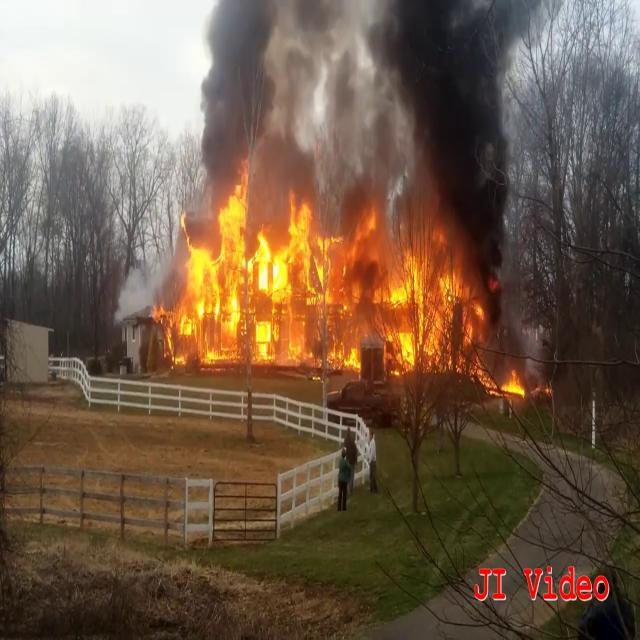Fire: (154, 179, 484, 377), (484, 366, 531, 404)
Smoke: (175, 0, 542, 265)
